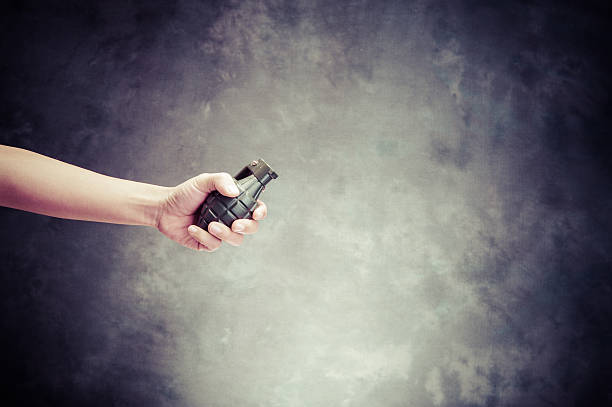e1: (195, 158, 278, 227)
